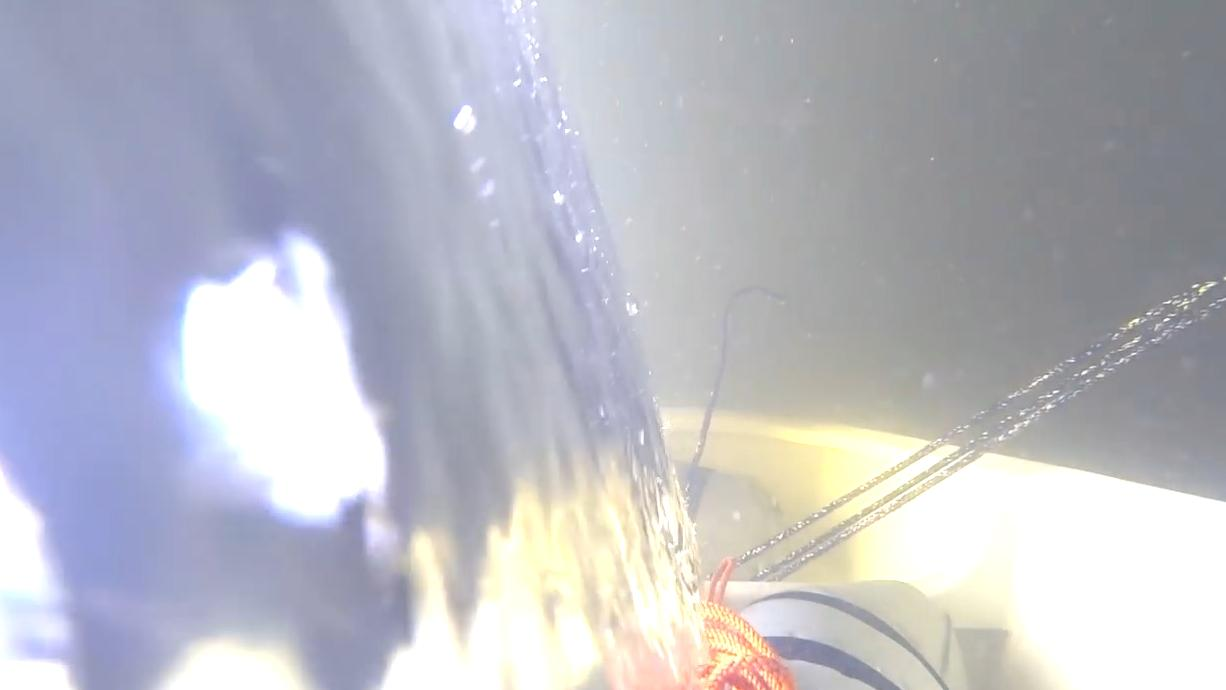boat: (659, 410, 1226, 690)
underwater: (0, 0, 1226, 690)
